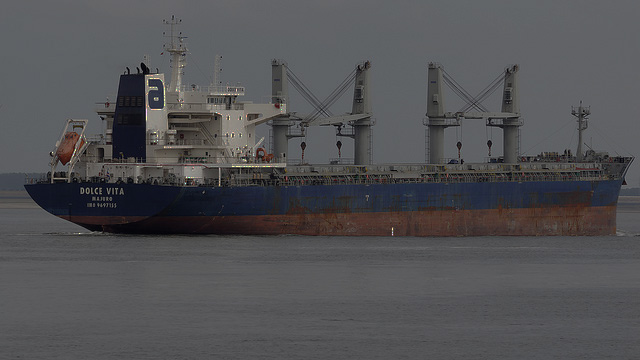bulk carrier: (22, 28, 630, 242)
